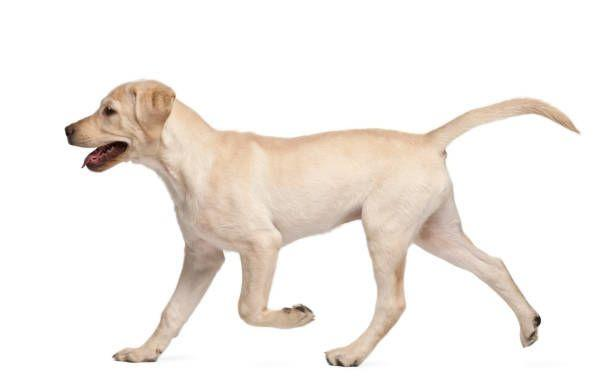puppy-dog: (65, 78, 584, 368)
